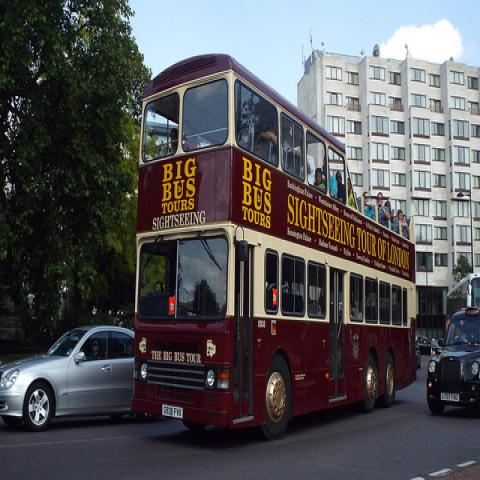bus: (134, 54, 418, 438), (446, 273, 480, 340)
car: (1, 324, 152, 433), (425, 309, 480, 415), (415, 334, 437, 355)
